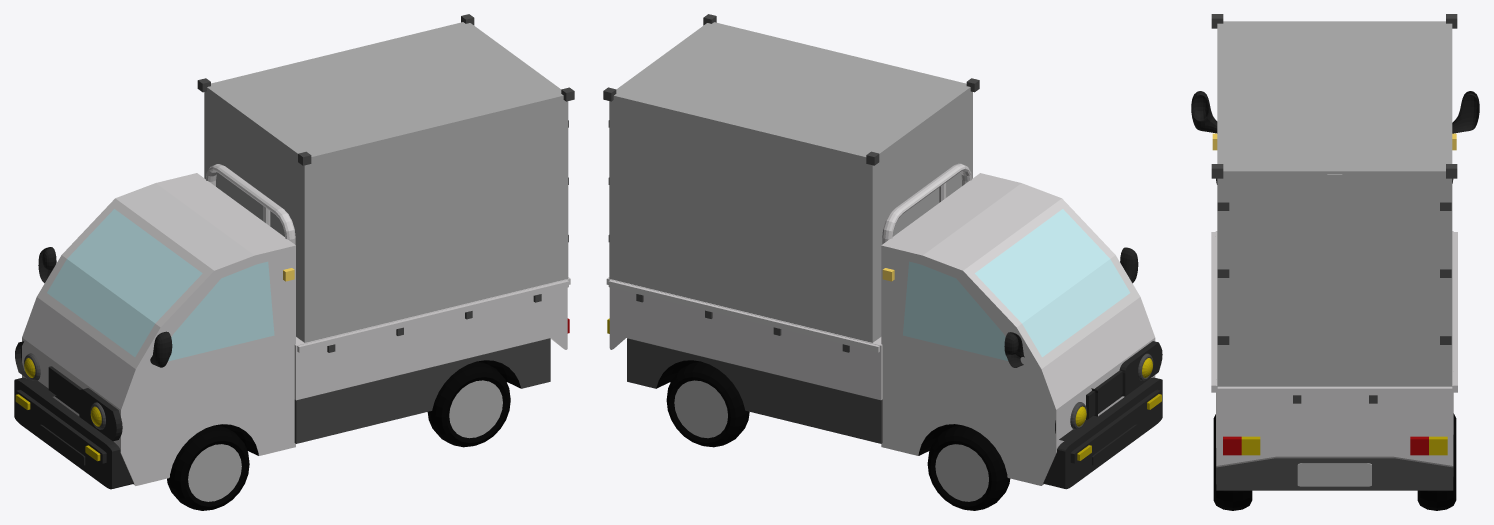
Rendered from Truck_All.fbx.
3 views of the same model, side by side, from view 1: azimuth 30°, elevation 25°; view 2: azimuth 150°, elevation 25°; view 3: azimuth 270°, elevation 25° (orthographic). The views are drawn at different scales.
Visible parts, largest first — view 1: Cube.022; view 2: Cube.022; view 3: Cube.022.
Part boxes in pixels (<box>): Cube.022: <box>14,14,574,510</box>; Cube.022: <box>603,14,1162,510</box>; Cube.022: <box>1191,14,1479,510</box>.
Size of the model in its own units: 623 by 430 by 287.
